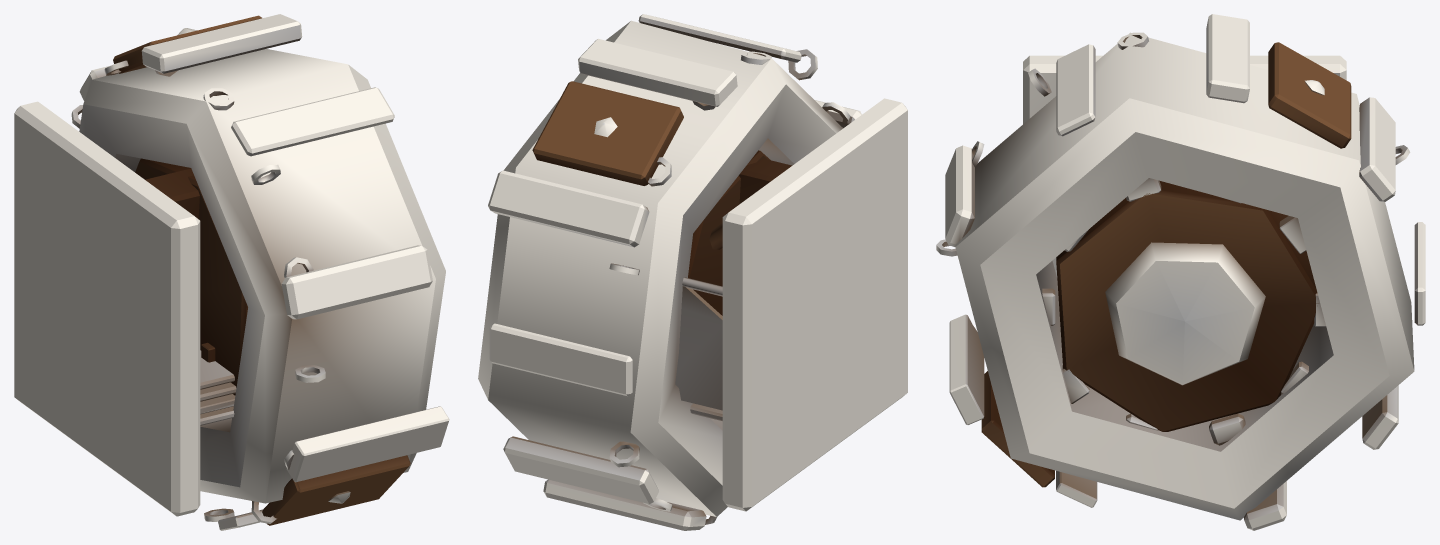
The model's file is R4M_WheelM_Side_Offroad_LOD1.fbx.
3 renders of one model, left to right at view 1: azimuth 30°, elevation 25°; view 2: azimuth 150°, elevation 25°; view 3: azimuth 270°, elevation 25°, orthographic.
Visible parts, largest first — view 1: R4M_WheelM_Side_Offroad_LOD1; view 2: R4M_WheelM_Side_Offroad_LOD1; view 3: R4M_WheelM_Side_Offroad_LOD1.
Part boxes in pixels (x1,y1,x2,y2): R4M_WheelM_Side_Offroad_LOD1: (14, 14, 449, 530); R4M_WheelM_Side_Offroad_LOD1: (478, 14, 907, 530); R4M_WheelM_Side_Offroad_LOD1: (936, 14, 1425, 530).
Size of the model in its own units: 0.446 by 0.7603 by 0.7562.
